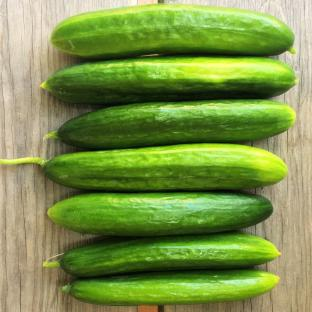Cucumber: (0, 144, 287, 191), (50, 4, 295, 58), (41, 56, 297, 105), (45, 100, 295, 149), (44, 233, 280, 276), (48, 193, 272, 236), (61, 269, 278, 305)
